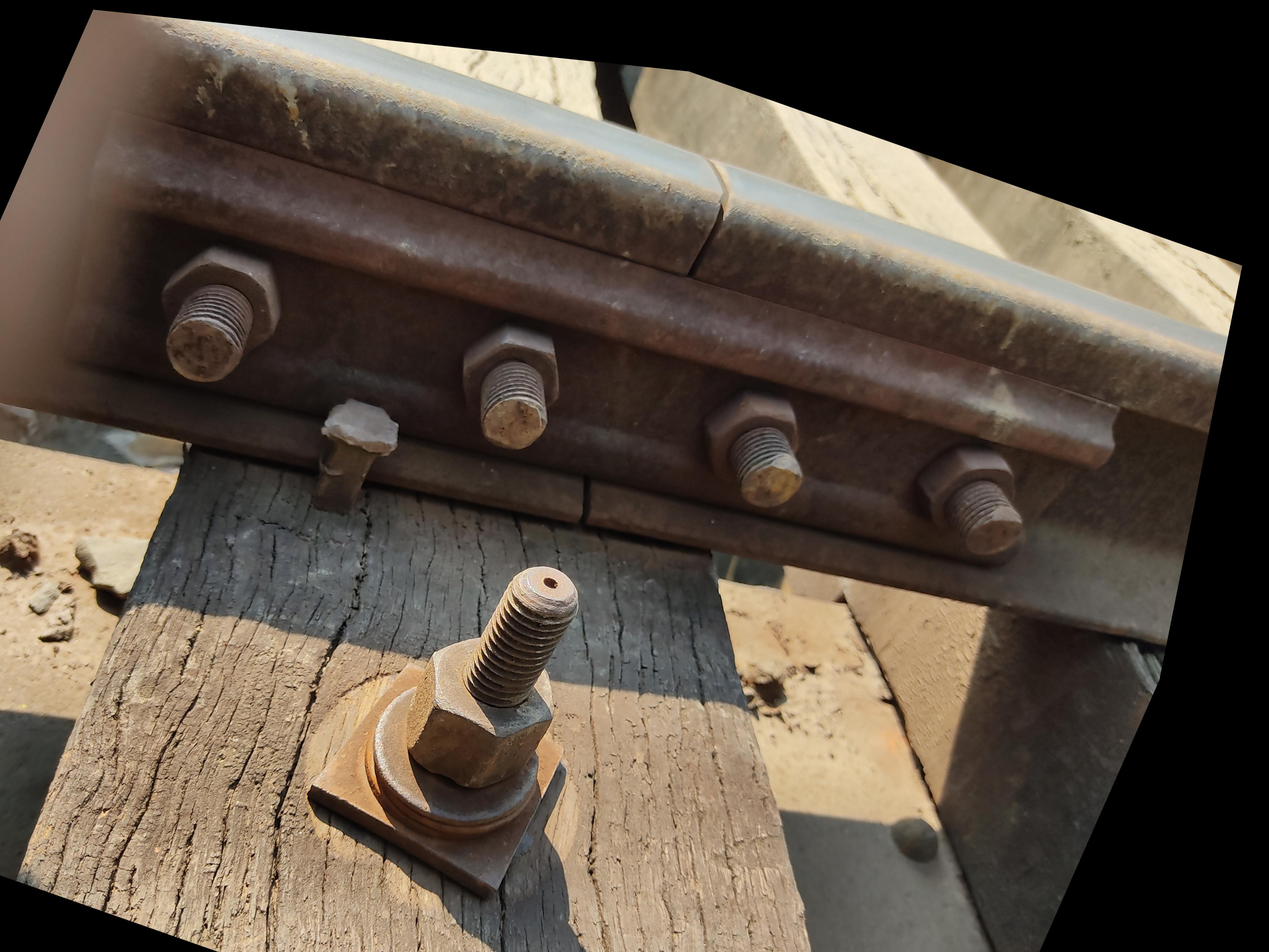person: (747, 63, 962, 195), (659, 294, 817, 441)
